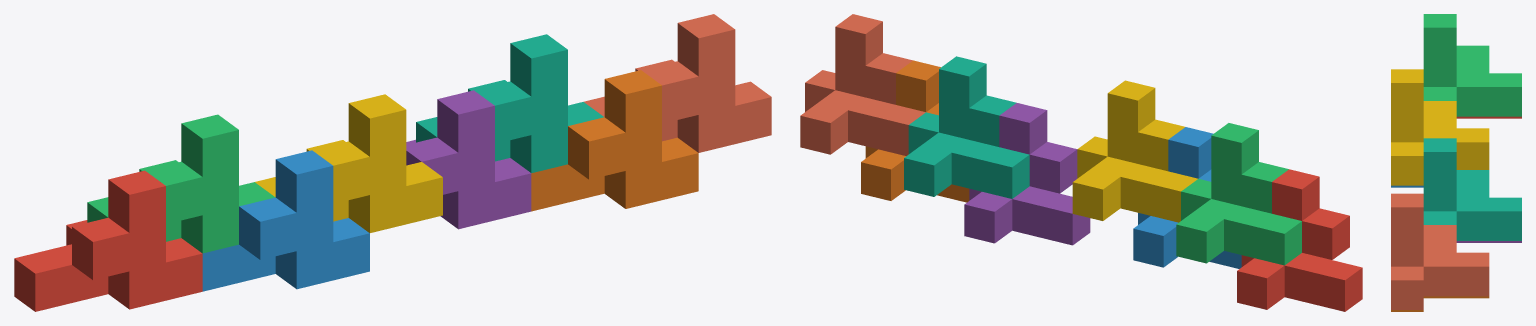
File: tiling.obj
The picture shows the model from 3 angles, left to right: view 1: azimuth 30°, elevation 25°; view 2: azimuth 150°, elevation 25°; view 3: azimuth 270°, elevation 25°; orthographic projection. The views are drawn at different scales.
Parts seen in each view (by area): view 1: copy_1_domain_1, copy_1_domain_2, copy_1_domain_6, copy_1_domain_8, copy_1_domain_4, copy_1_domain_5, copy_1_domain_3, copy_1_domain_7; view 2: copy_1_domain_7, copy_1_domain_3, copy_1_domain_4, copy_1_domain_8, copy_1_domain_1, copy_1_domain_5, copy_1_domain_2, copy_1_domain_6; view 3: copy_1_domain_8, copy_1_domain_3, copy_1_domain_7, copy_1_domain_4, copy_1_domain_6, copy_1_domain_1, copy_1_domain_5.
Part boxes in pixels (<box>): copy_1_domain_1: <box>14,170,202,311</box>; copy_1_domain_2: <box>202,150,369,291</box>; copy_1_domain_6: <box>531,70,698,211</box>; copy_1_domain_8: <box>583,14,771,152</box>; copy_1_domain_4: <box>255,94,442,232</box>; copy_1_domain_5: <box>406,90,531,229</box>; copy_1_domain_3: <box>87,114,275,253</box>; copy_1_domain_7: <box>416,34,603,173</box>; copy_1_domain_7: <box>904,56,1029,198</box>; copy_1_domain_3: <box>1176,123,1301,265</box>; copy_1_domain_4: <box>1072,80,1197,222</box>; copy_1_domain_8: <box>800,14,925,155</box>; copy_1_domain_1: <box>1237,169,1362,311</box>; copy_1_domain_5: <box>964,103,1090,245</box>; copy_1_domain_2: <box>1133,127,1241,268</box>; copy_1_domain_6: <box>861,60,969,202</box>; copy_1_domain_8: <box>1391,193,1489,309</box>; copy_1_domain_3: <box>1423,14,1521,116</box>; copy_1_domain_7: <box>1423,138,1521,240</box>; copy_1_domain_4: <box>1391,69,1489,185</box>; copy_1_domain_6: <box>1391,296,1489,311</box>; copy_1_domain_1: <box>1456,116,1521,118</box>; copy_1_domain_5: <box>1456,241,1521,242</box>.
Bounding box in the file's own units: 19 × 4 × 4.
